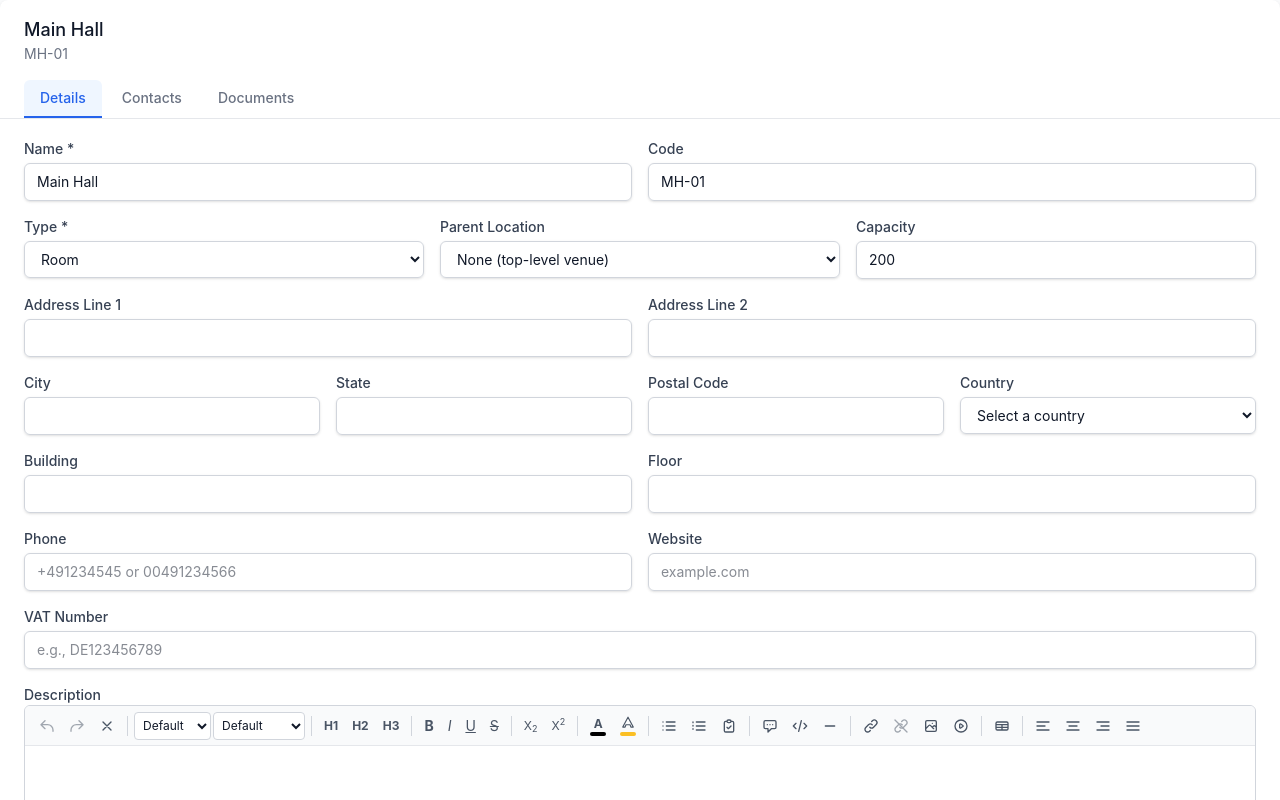
Test case: LocationDetailPanel › form interaction › shows phone error for invalid phone
The width and height of the screenshot is (1280, 800).
Step 1. Type "invalid" into the field with placeholder "+491234545 or 00491234566" → coordinates (328, 572), box [24,553,632,591]
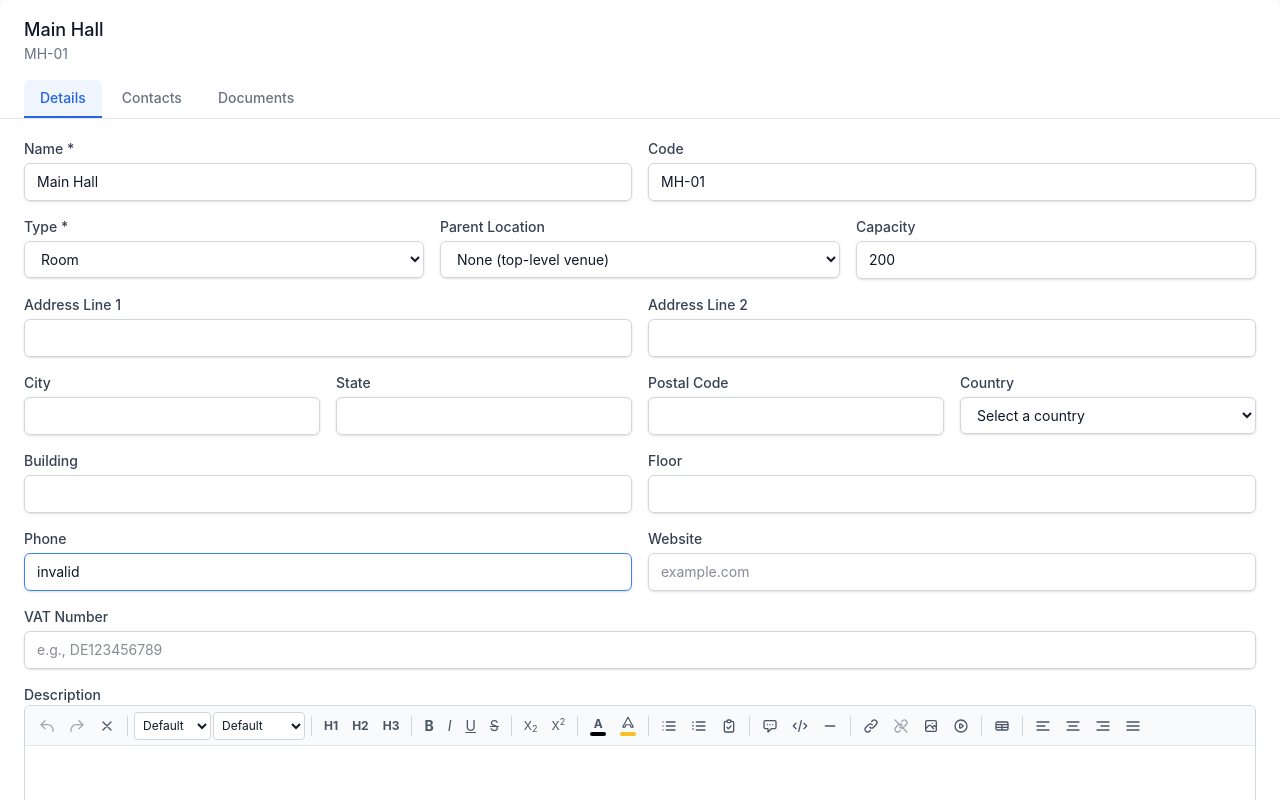
Step 2. Leave the field with placeholder "+491234545 or 00491234566" below "Phone", box [24,553,632,591]
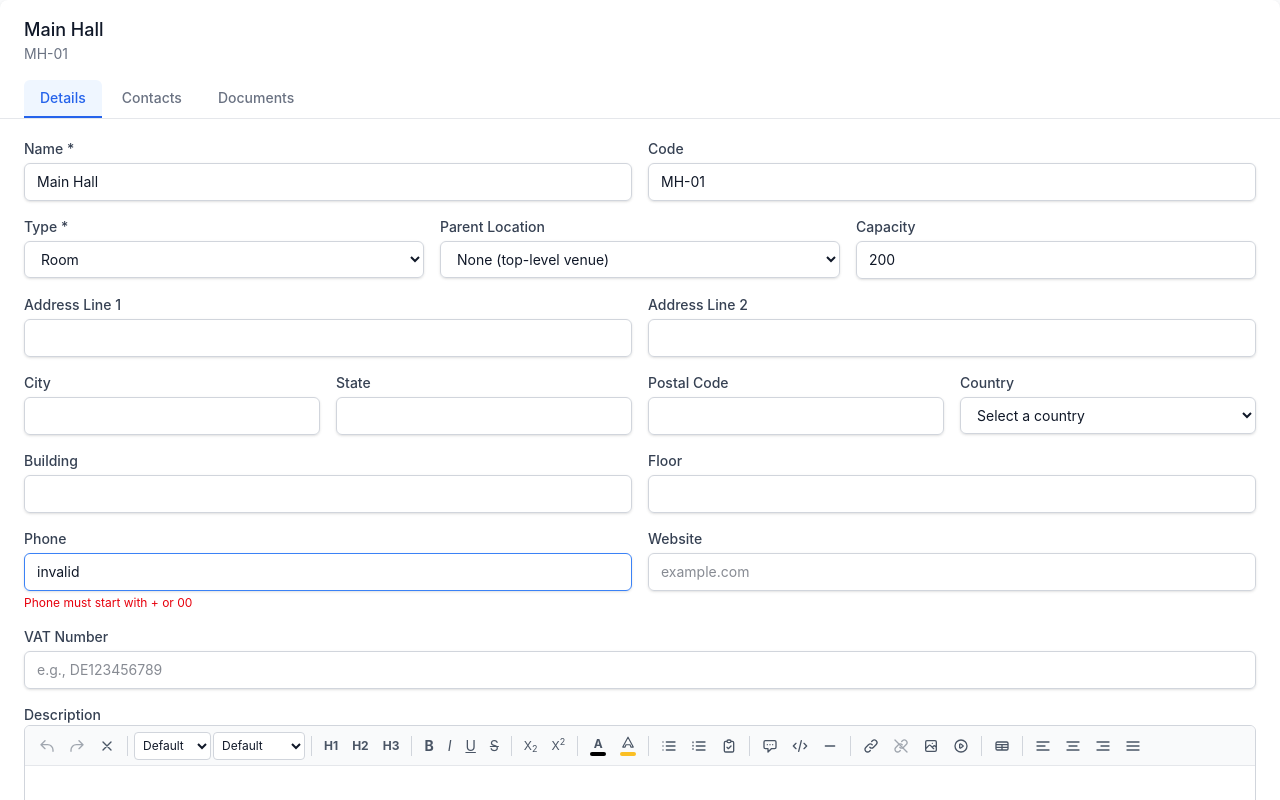
Expected: the text "Phone must start with + or 00" is shown, [24,595,192,610]
